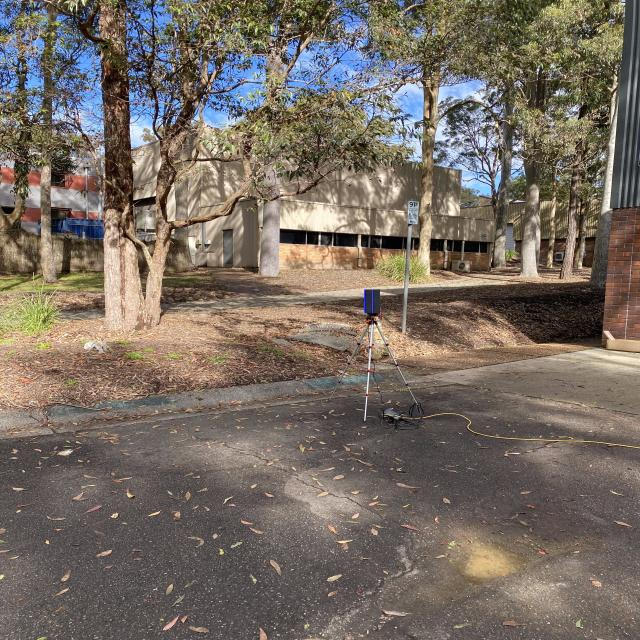matrix: (350, 284, 394, 321)
